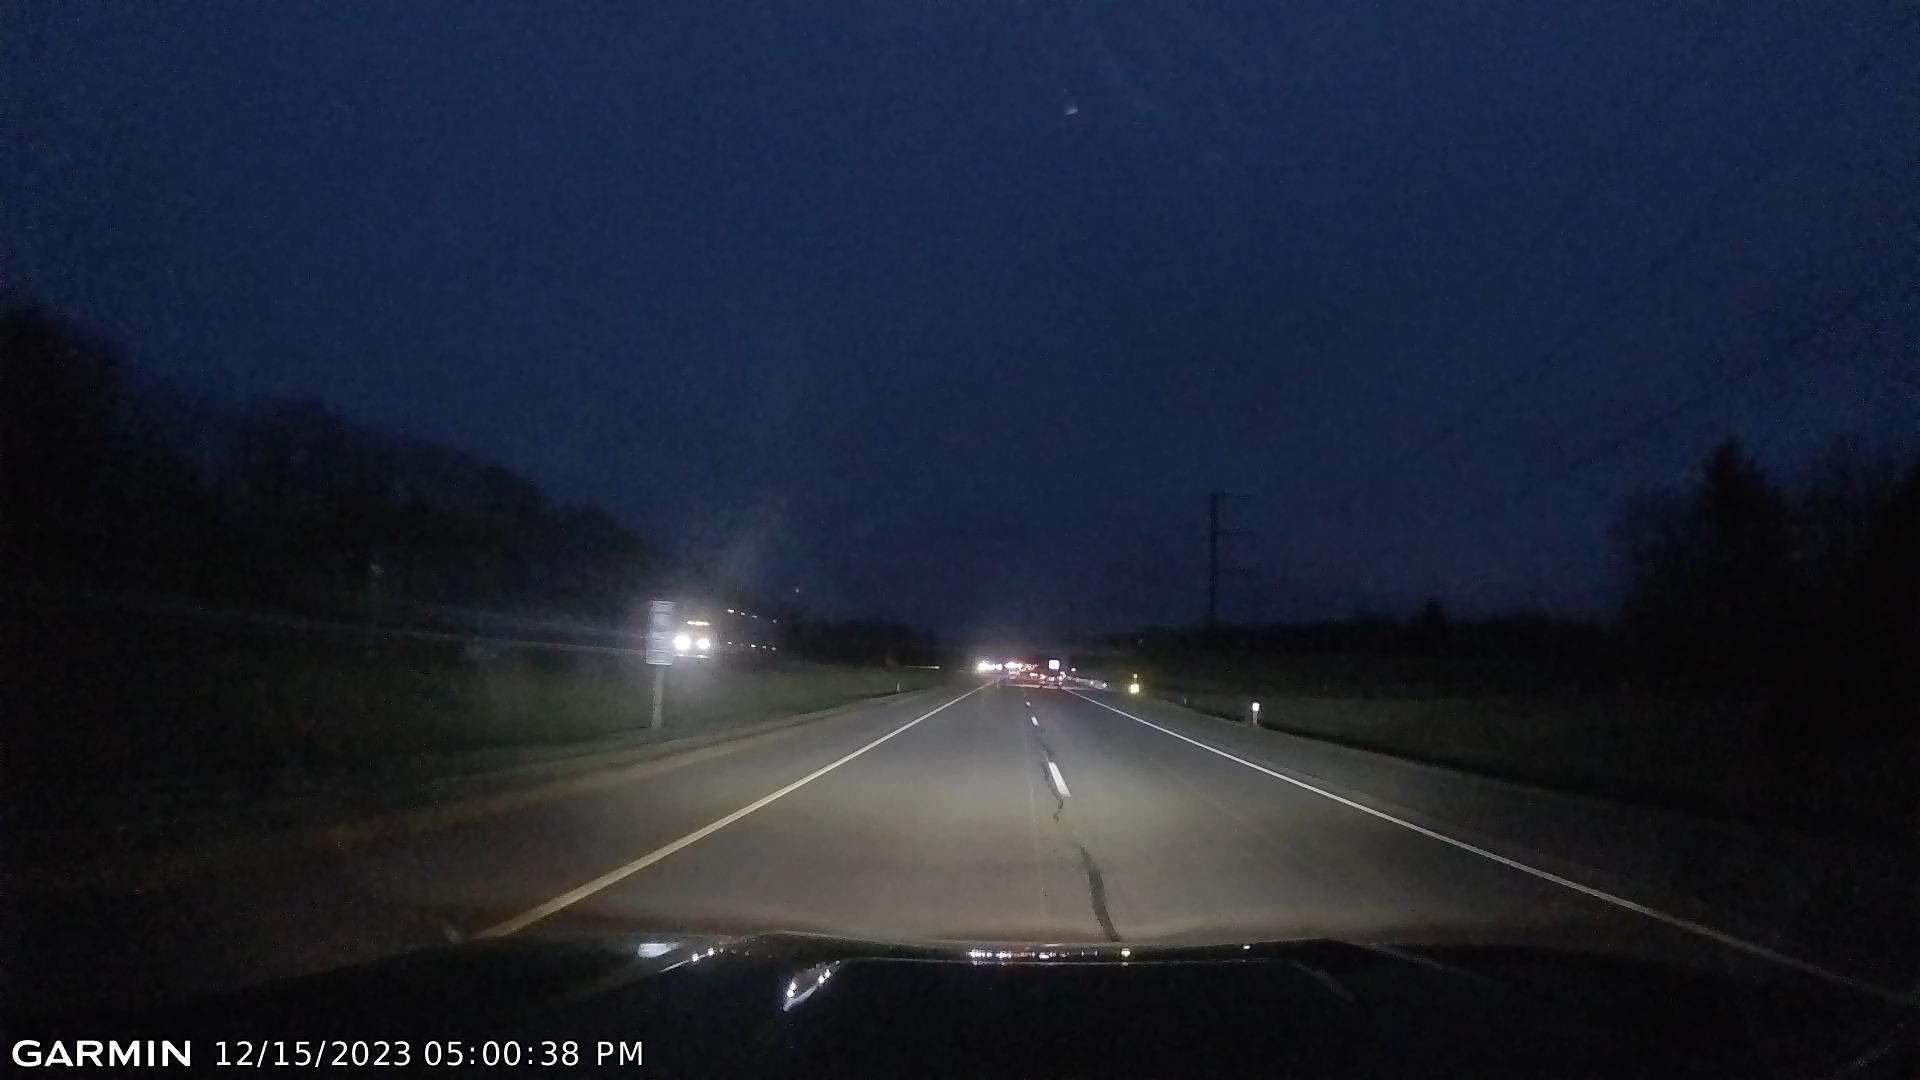1: (1050, 761, 1068, 799), (1031, 716, 1039, 728), (1026, 702, 1030, 705)
road-lanes: (476, 690, 975, 936)
